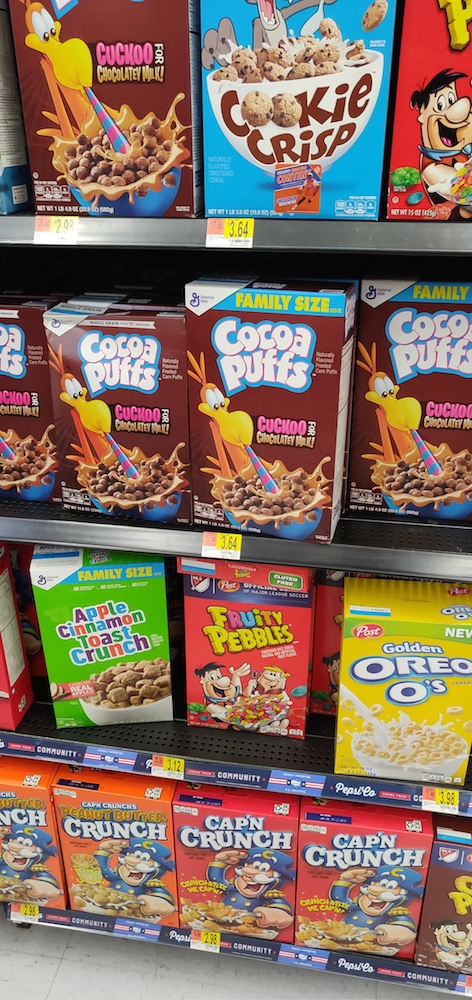Oreo Golden-568301011: (344, 587, 472, 785)
